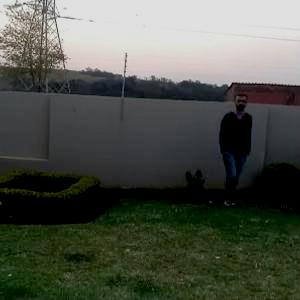follow: (209, 90, 259, 203)
